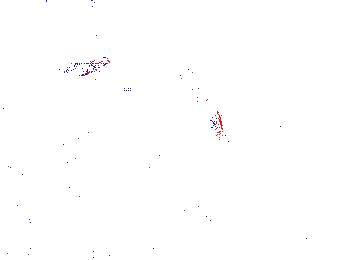glassfish: (174, 67, 231, 143)
redtail glassfish: (129, 37, 158, 67), (68, 55, 110, 74)
siberian prawn: (38, 215, 116, 260)
